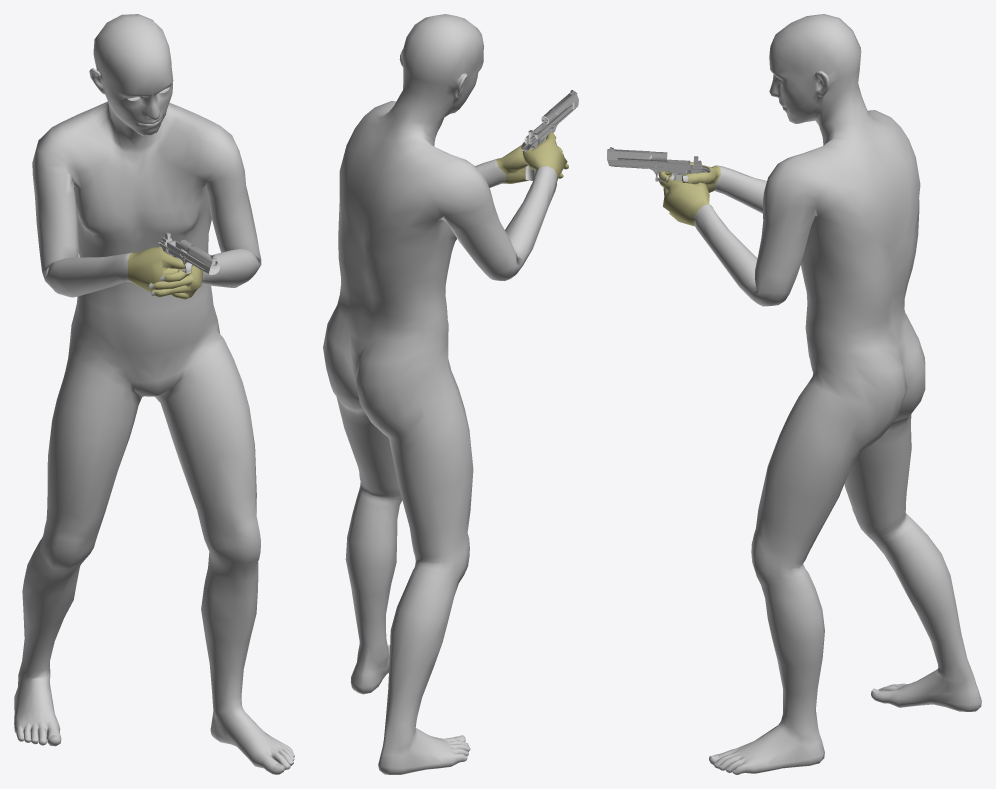
The model's file is pistol.glb.
3 views of the same model, side by side, from view 1: azimuth 30°, elevation 25°; view 2: azimuth 150°, elevation 25°; view 3: azimuth 270°, elevation 25° (orthographic). The views are drawn at different scales.
Visible parts, largest first — view 1: man001; view 2: man001; view 3: man001.
Boxes of the visible parts, bbox=[...] form: man001: bbox=[14, 14, 294, 774]; man001: bbox=[323, 14, 578, 774]; man001: bbox=[607, 14, 981, 774].
Size of the model in its own units: 0.5062 by 1.76 by 0.8425.
